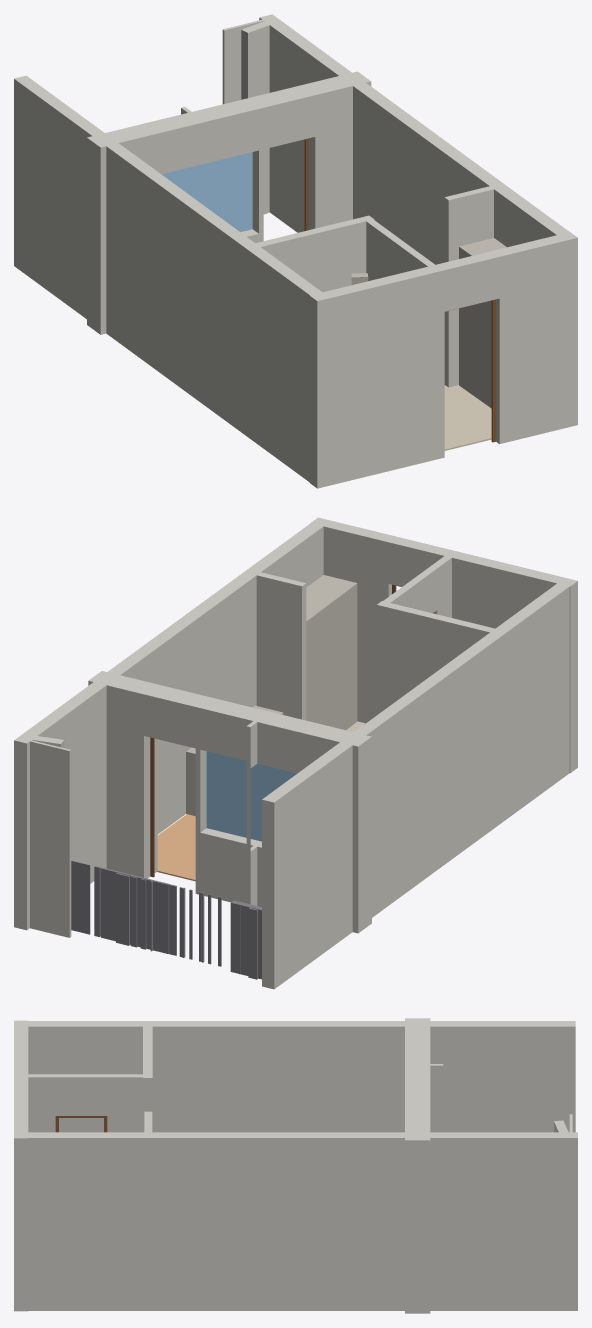
The picture shows the model from 3 angles, top to bottom: view 1: azimuth 30°, elevation 25°; view 2: azimuth 150°, elevation 25°; view 3: azimuth 270°, elevation 25°; orthographic projection. The views are drawn at different scales.
Visible parts, largest first — view 1: walls, window_2, furniture_0_closet, floor_1_Entry, door_0; view 2: walls, railings, furniture_0_closet, window_2, floor_0_Living_Room, door_1, furniture_2_appliance; view 3: walls.
Part boxes in pixels (<box>): walls: <box>14,14,577,488</box>; window_2: <box>162,152,252,231</box>; furniture_0_closet: <box>459,238,506,408</box>; floor_1_Entry: <box>444,385,491,450</box>; door_0: <box>449,299,495,442</box>; walls: <box>14,517,577,989</box>; railings: <box>71,860,261,979</box>; furniture_0_closet: <box>306,575,357,730</box>; window_2: <box>206,751,297,841</box>; floor_0_Living_Room: <box>157,814,195,881</box>; door_1: <box>150,737,154,877</box>; furniture_2_appliance: <box>186,747,195,816</box>; walls: <box>14,1018,577,1313</box>.
Bounding box in the file's own units: 4.08 × 2.72 × 7.97.
